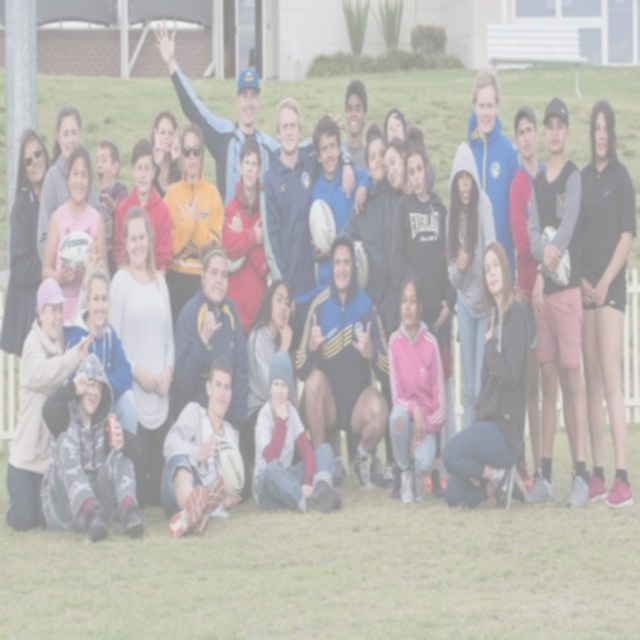pessoa: (153, 17, 344, 210), (258, 94, 355, 433), (520, 92, 592, 514), (4, 238, 101, 534), (293, 226, 394, 498), (522, 102, 590, 506), (574, 96, 638, 516), (441, 240, 538, 512), (340, 120, 402, 492), (168, 243, 252, 507), (39, 349, 148, 549), (108, 206, 176, 510), (158, 349, 246, 544), (390, 124, 460, 366), (444, 140, 498, 431), (386, 266, 450, 508), (252, 349, 344, 514), (62, 263, 139, 438), (160, 122, 225, 326), (464, 68, 522, 292), (41, 144, 110, 322), (0, 127, 52, 362), (308, 113, 371, 294), (220, 132, 273, 343), (38, 105, 102, 267), (244, 278, 298, 468), (382, 138, 407, 498), (112, 137, 174, 280), (94, 136, 129, 284), (326, 77, 372, 172), (150, 110, 183, 200), (382, 106, 409, 144)
